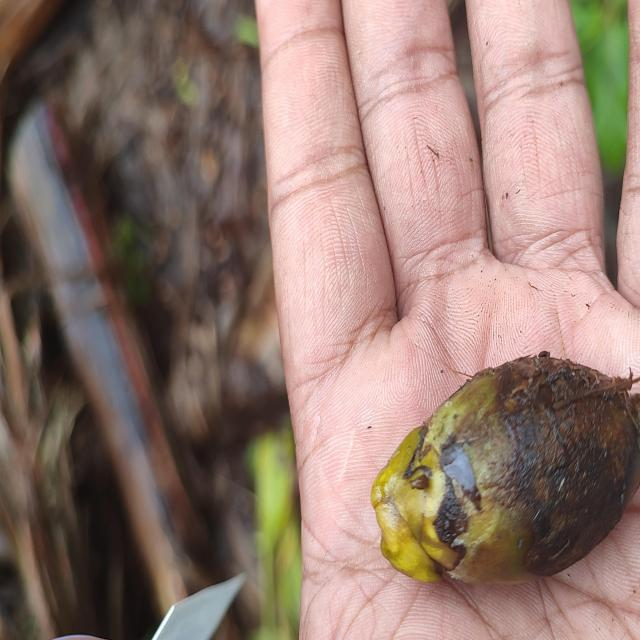damaged: (369, 353, 640, 588)
